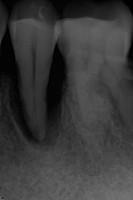Dental Caries: (9, 74, 66, 148)
